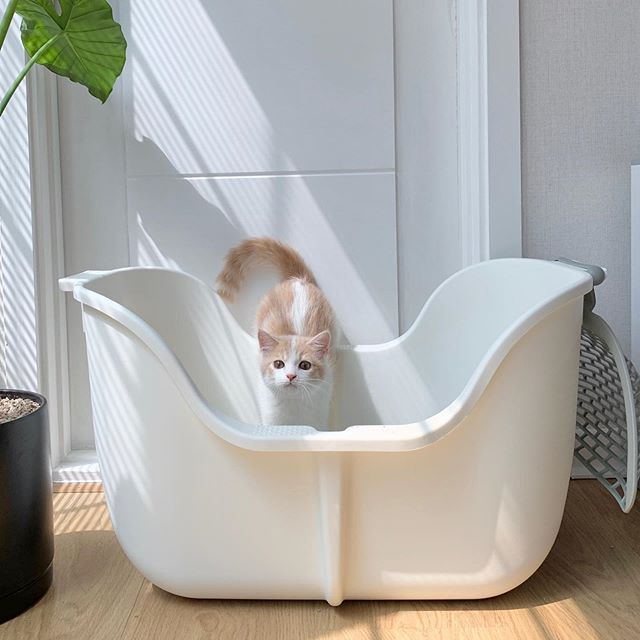cat: (251, 323, 341, 413)
